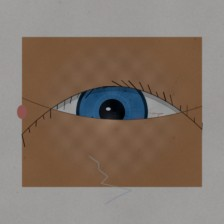foreign_body_visible: (125, 113, 154, 136)
